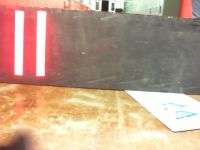switch: (14, 10, 24, 76), (36, 11, 46, 76)
